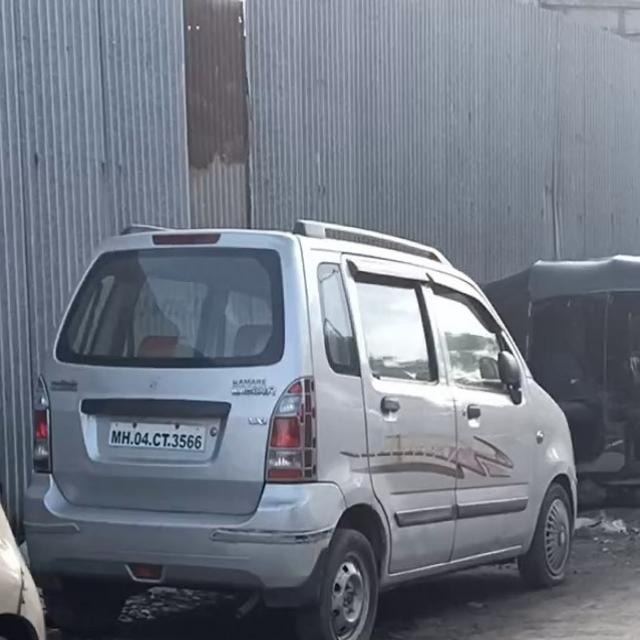Plate: (107, 420, 207, 451)
